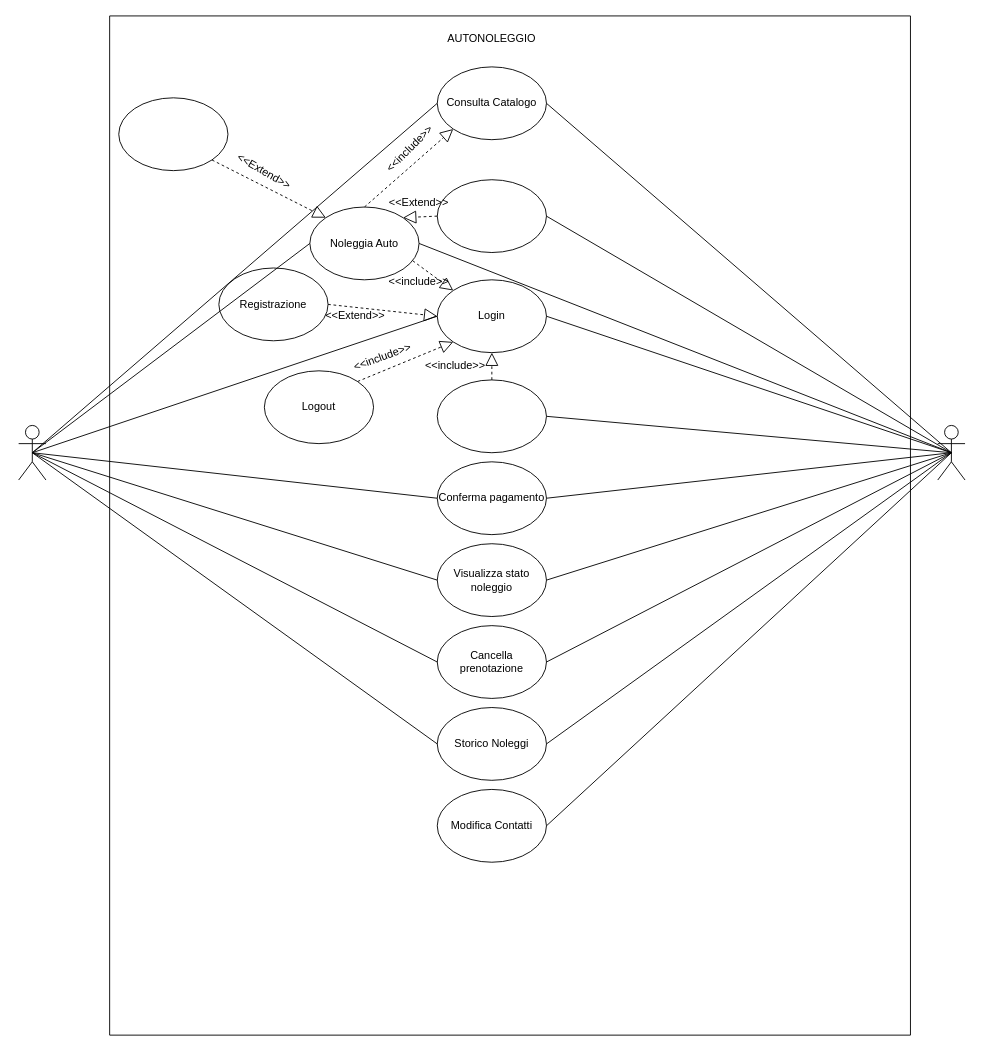
Image size: 983x1052. Some labels were removed from this diagram. Here are the shapes that lost their labels. From the top down, the box of each, then its label:
(118, 97, 228, 171): Conferma prenotazione
(436, 179, 546, 253): Servizi Aggiuntivi
(436, 379, 546, 453): Gestisci Catalogo
(18, 425, 46, 480): Cliente
(937, 425, 965, 480): Admin
